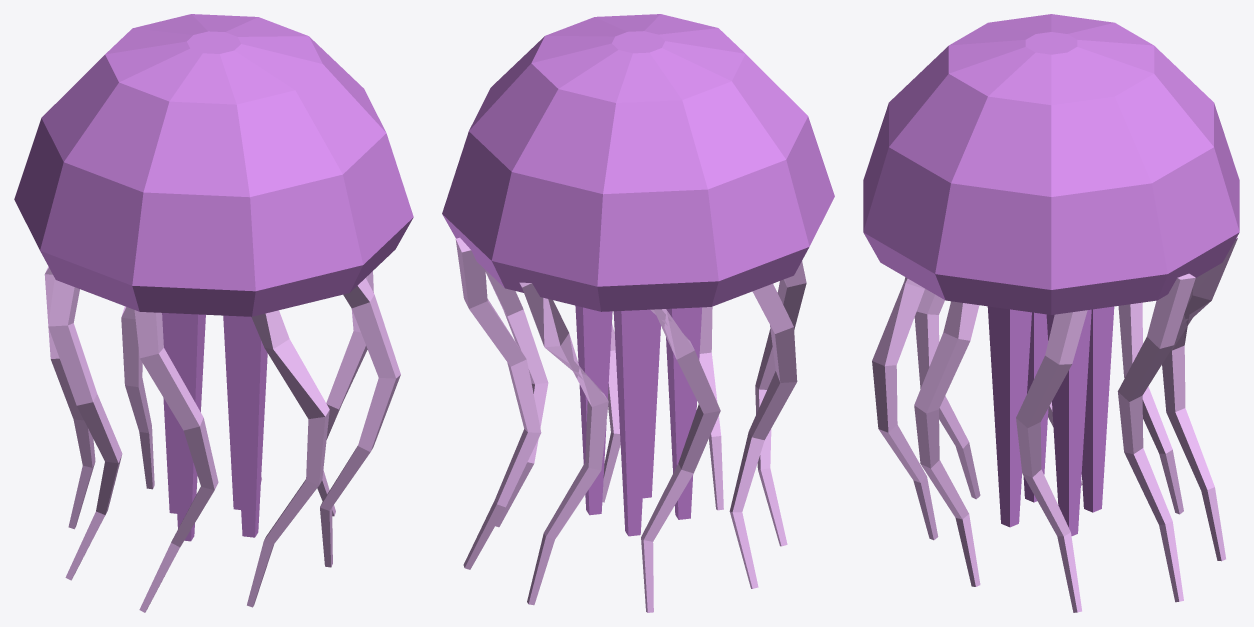
The model's file is jellyfish.glb.
3 renders of one model, left to right at view 1: azimuth 30°, elevation 25°; view 2: azimuth 150°, elevation 25°; view 3: azimuth 270°, elevation 25°, orthographic.
Parts seen in each view (by area): view 1: jellyfish; view 2: jellyfish; view 3: jellyfish.
Part boxes in pixels (x1=…): jellyfish: x1=14, y1=14, x2=413, y2=612; jellyfish: x1=442, y1=14, x2=834, y2=612; jellyfish: x1=863, y1=14, x2=1239, y2=612.
Bounding box in the file's own units: 0.44 × 0.6219 × 0.4185.
